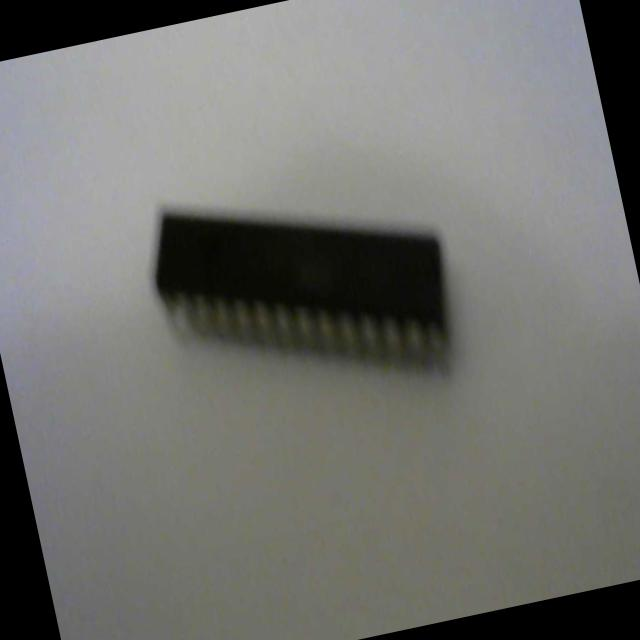atmega: (135, 144, 470, 430)
